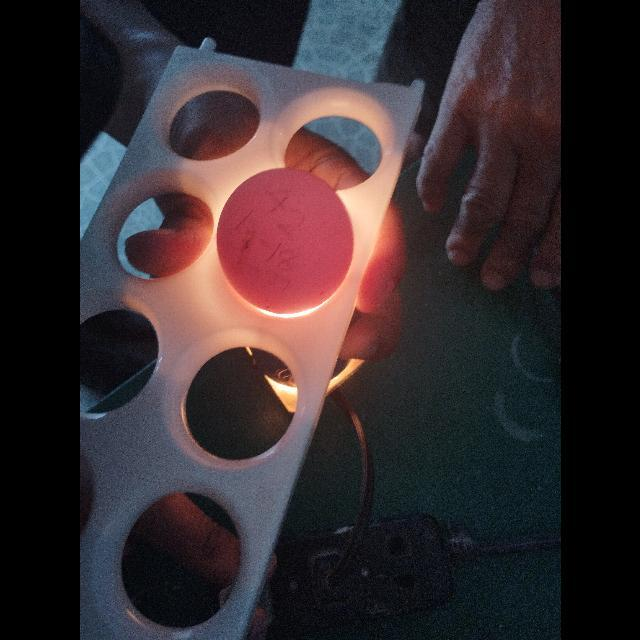Infertile: (218, 169, 350, 307)
